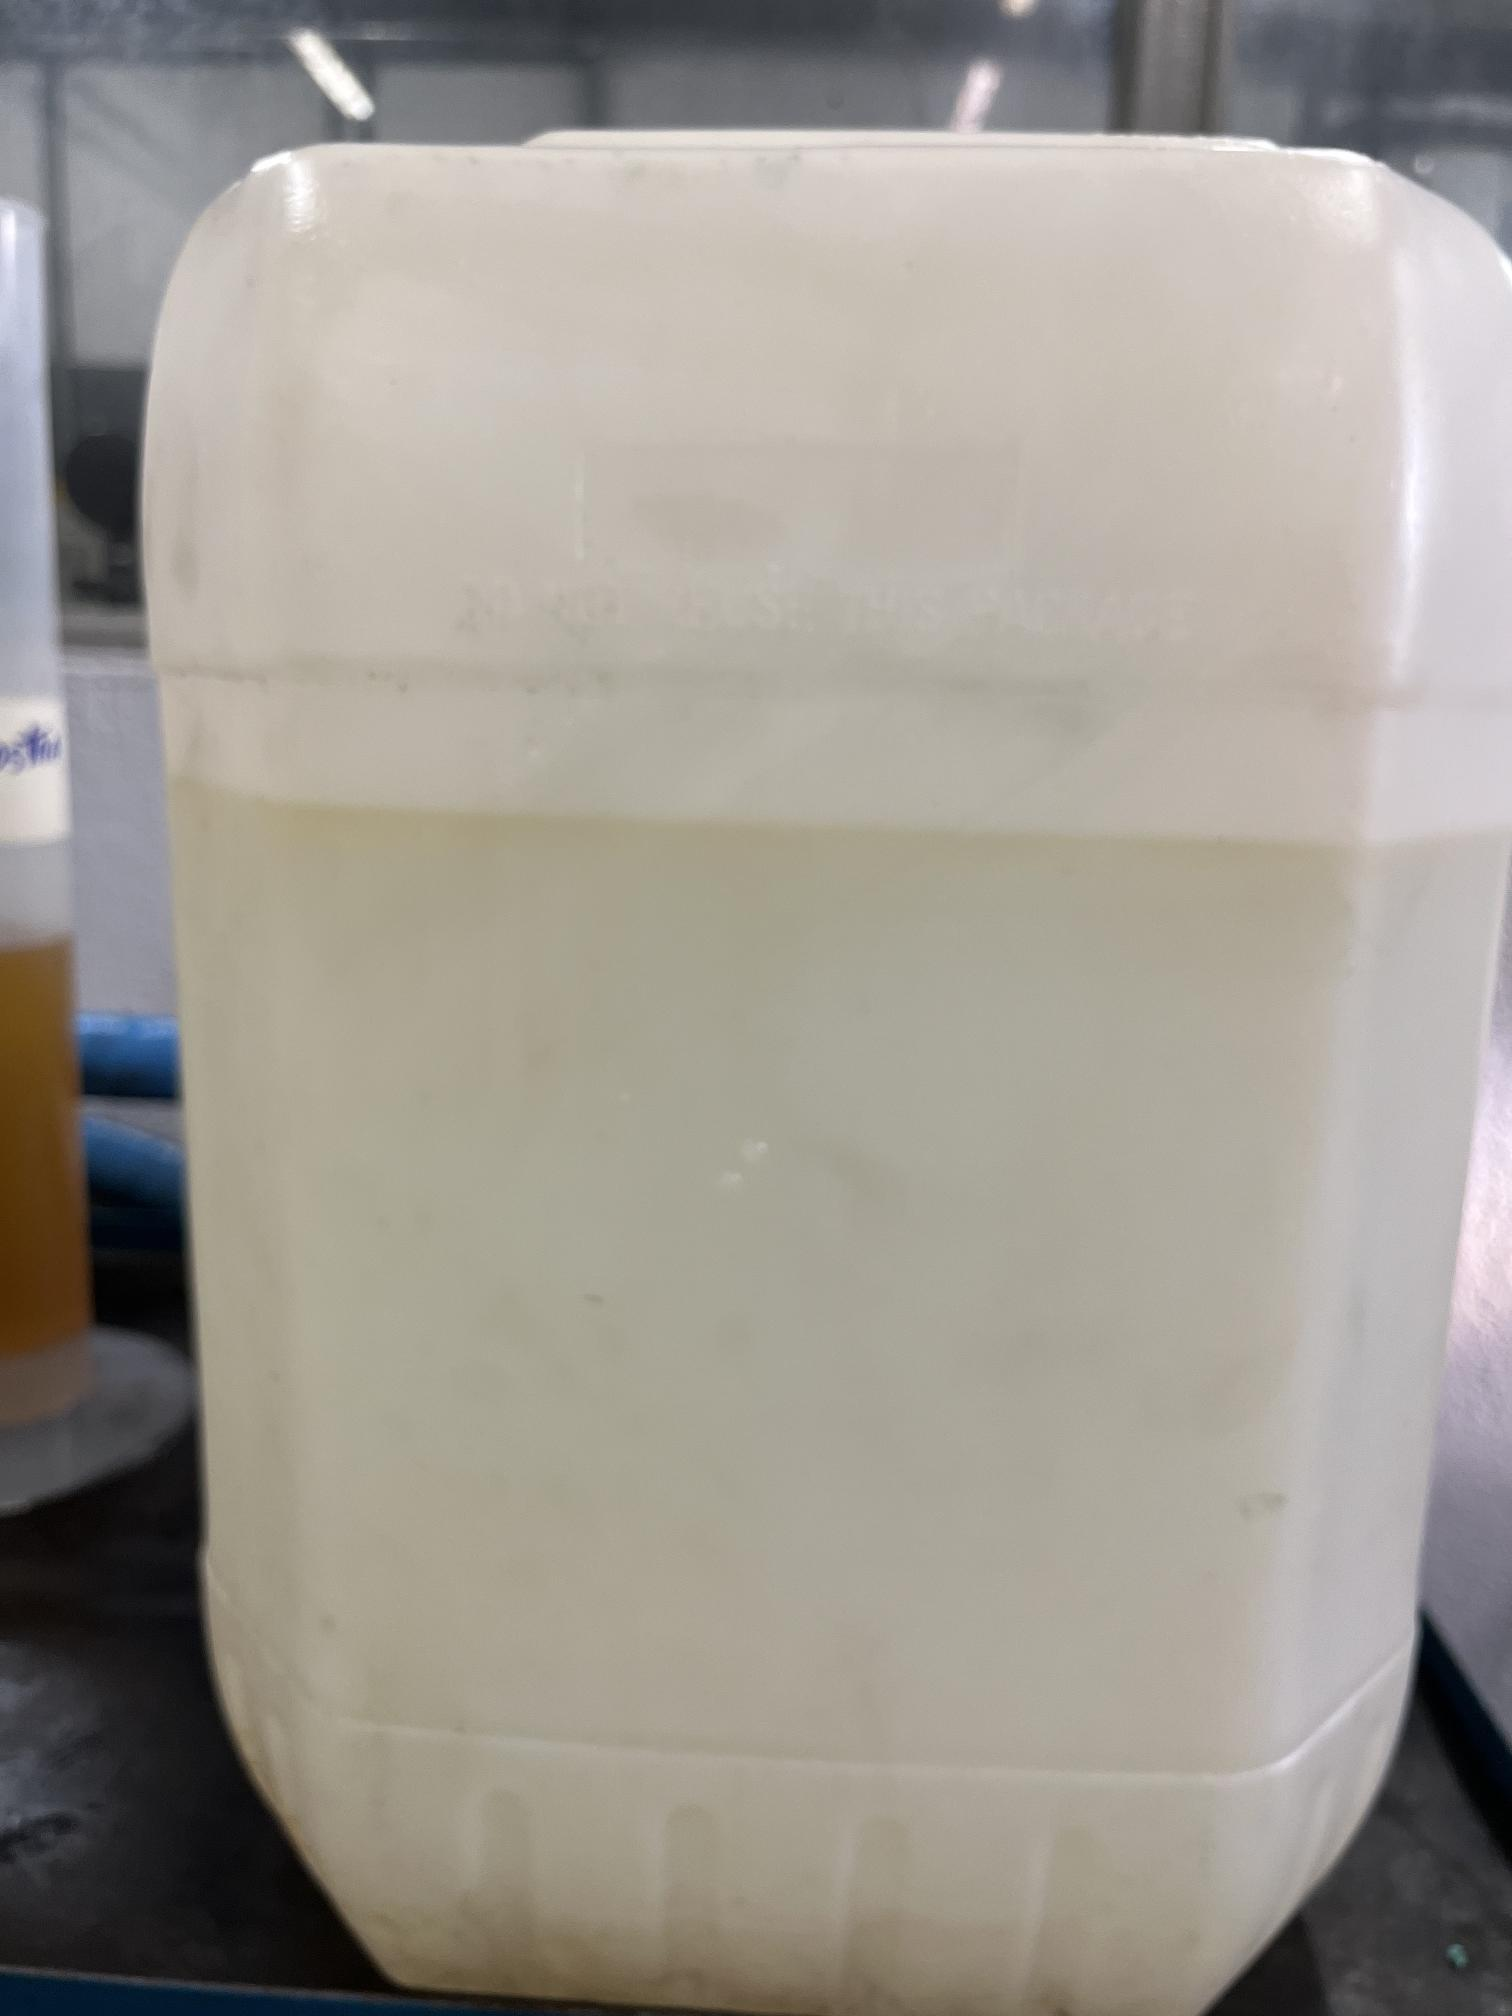Galao: (184, 110, 1441, 1921)
